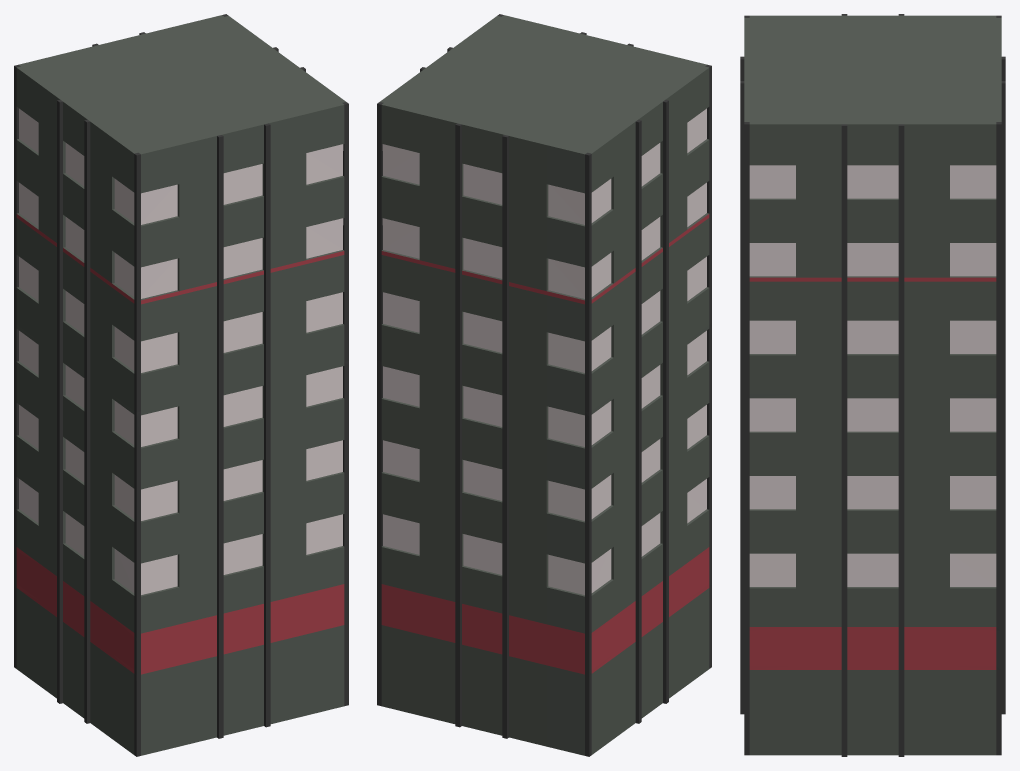
File: building.glb
The picture shows the model from 3 angles, left to right: view 1: azimuth 30°, elevation 25°; view 2: azimuth 150°, elevation 25°; view 3: azimuth 270°, elevation 25°; orthographic projection. The views are drawn at different scales.
Parts seen in each view (by area): view 1: Cube.014; view 2: Cube.014; view 3: Cube.014.
Boxes of the visible parts, <box> form: Cube.014: <box>14,14,348,756</box>; Cube.014: <box>377,14,711,756</box>; Cube.014: <box>740,14,1005,756</box>.
Bounding box in the file's own units: 49.54 × 130 × 49.59.
1 material, 1 textured.
